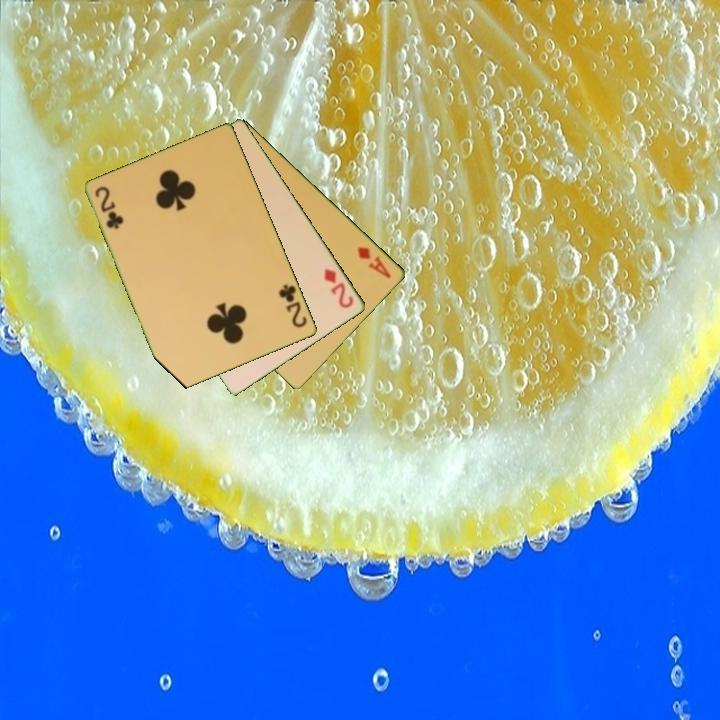2c: (275, 281, 310, 331), (92, 183, 126, 233)
2d: (321, 264, 357, 311)
Ad: (354, 243, 394, 281)
